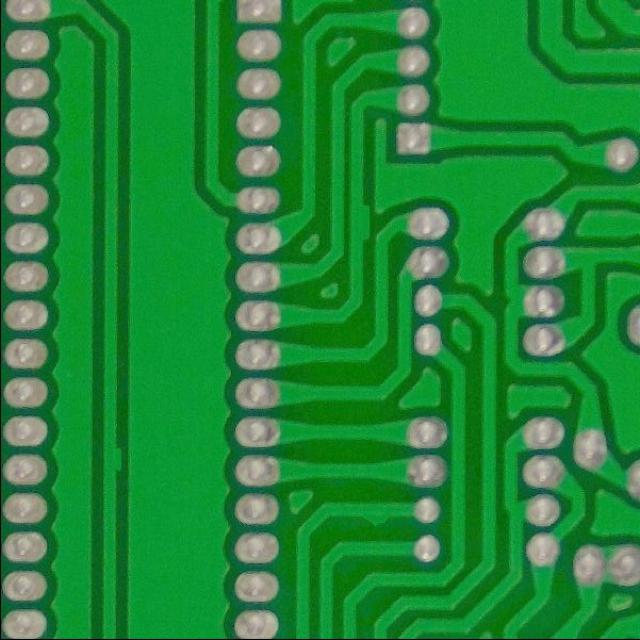Spur: (343, 194, 378, 249), (352, 493, 402, 530), (95, 436, 128, 482)
